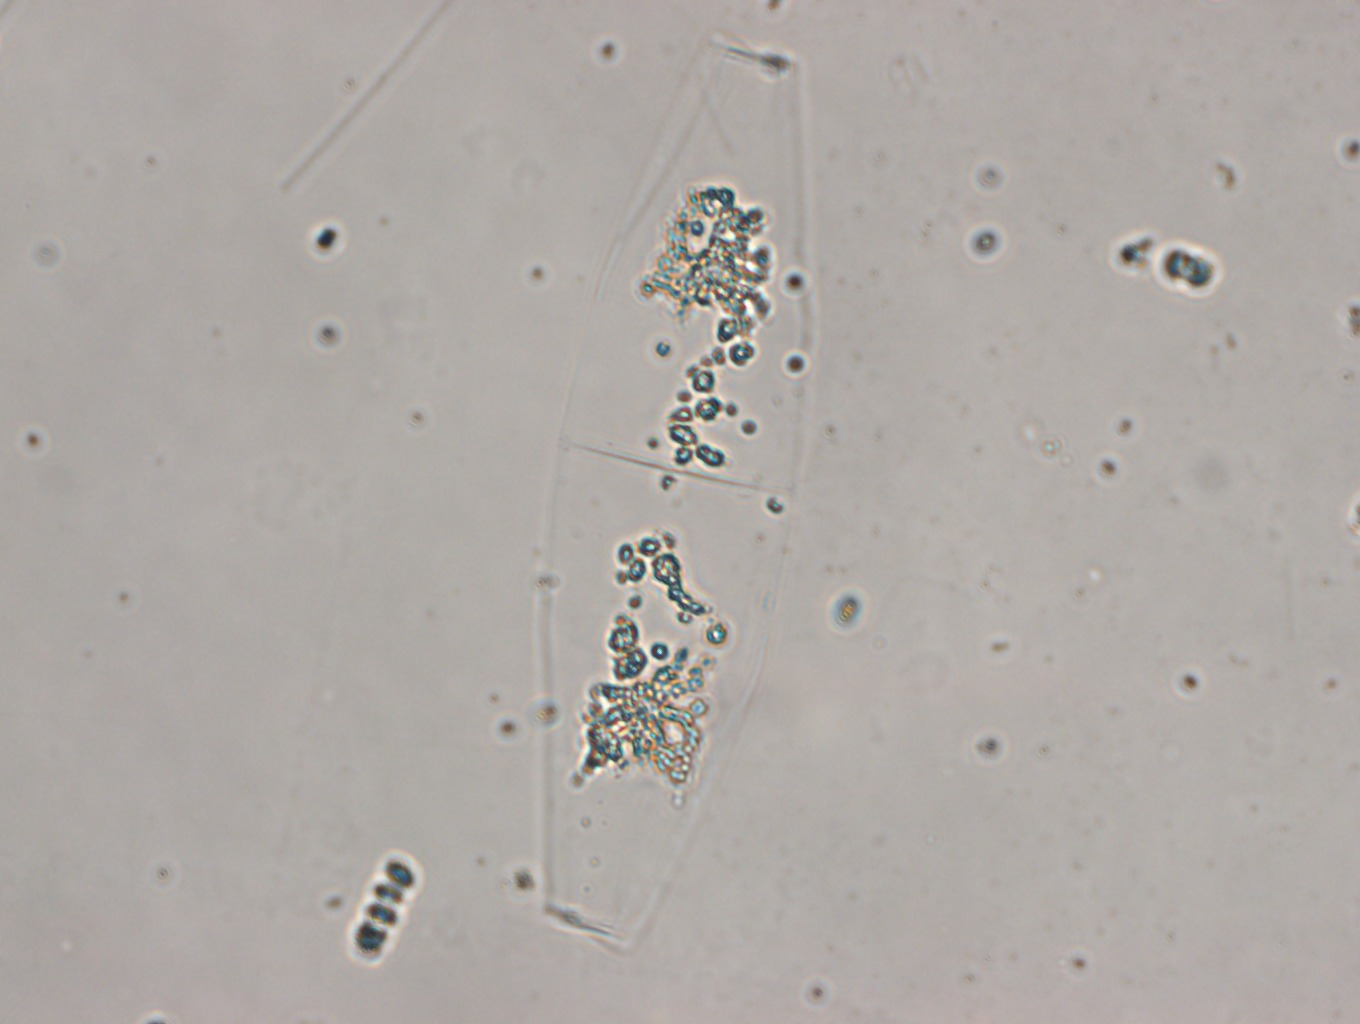helicotheca: (541, 40, 805, 958)
skeletonema: (349, 857, 419, 961)
